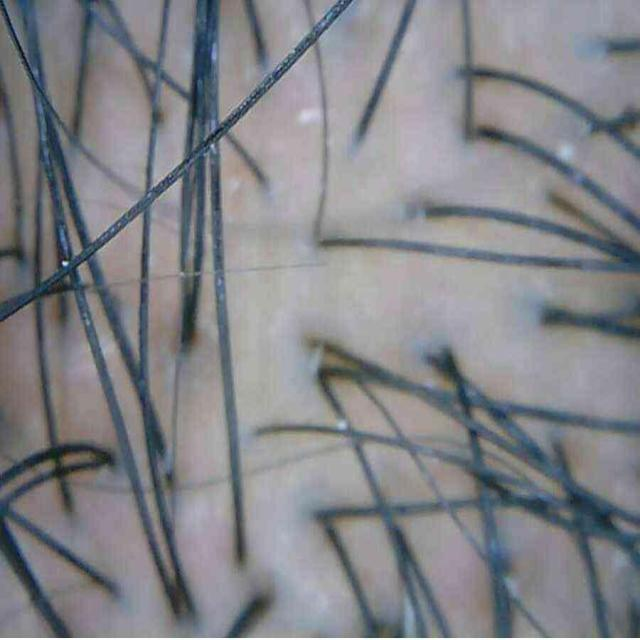d: (556, 135, 573, 163)
